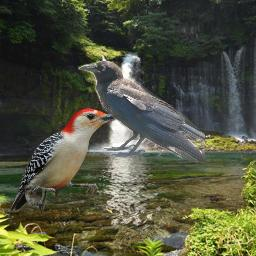Crow: (78, 61, 205, 162)
Woodpecker: (9, 108, 128, 213)
